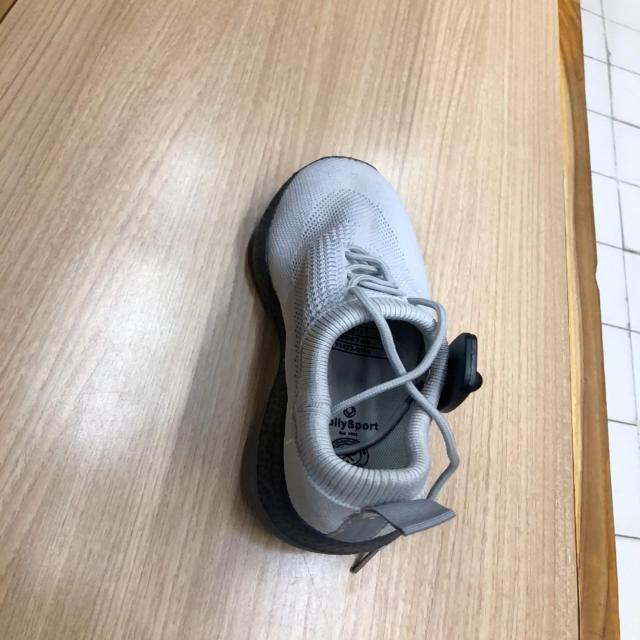shoe: (247, 156, 484, 554)
